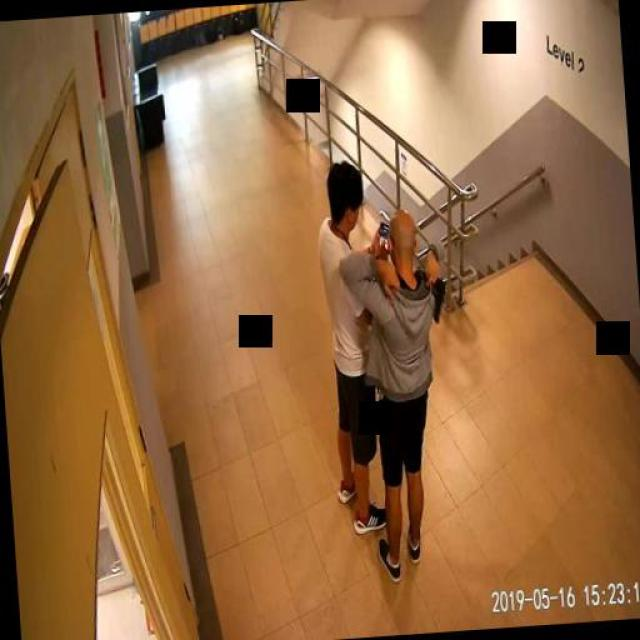gun: (426, 266, 446, 322)
